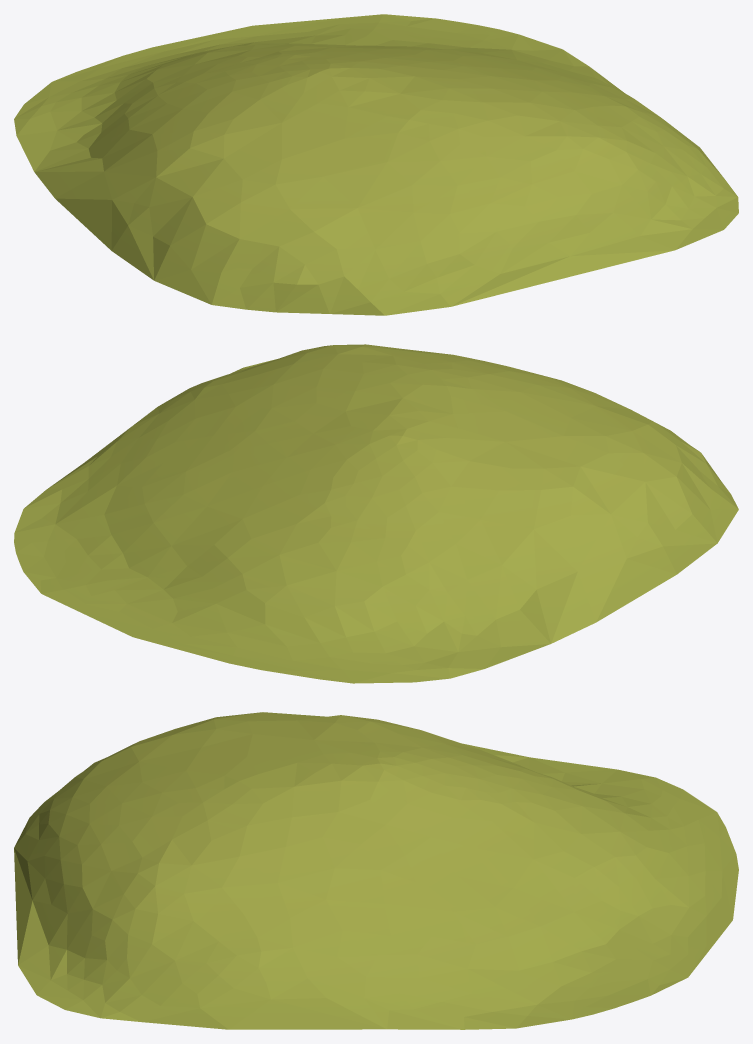
Rendered from Hill_16.glb.
3 views of the same model, one above another, from view 1: azimuth 30°, elevation 25°; view 2: azimuth 150°, elevation 25°; view 3: azimuth 270°, elevation 25° (orthographic). The views are drawn at different scales.
Parts seen in each view (by area): view 1: Hill_16; view 2: Hill_16; view 3: Hill_16.
Part boxes in pixels (left/top/right/bottom): Hill_16: left=14, top=14, right=738, bottom=315; Hill_16: left=14, top=344, right=738, bottom=683; Hill_16: left=14, top=712, right=738, bottom=1029.
Size of the model in its own units: 56.43 by 9.82 by 60.8.
Materials: 1 (1 with a texture image).
